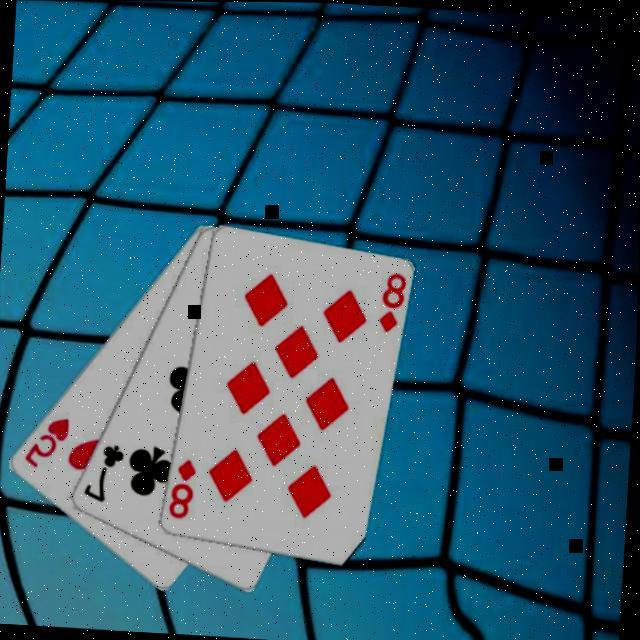5H: (23, 412, 75, 471)
7C: (82, 439, 130, 505)
8D: (167, 454, 200, 520), (378, 269, 410, 335)
